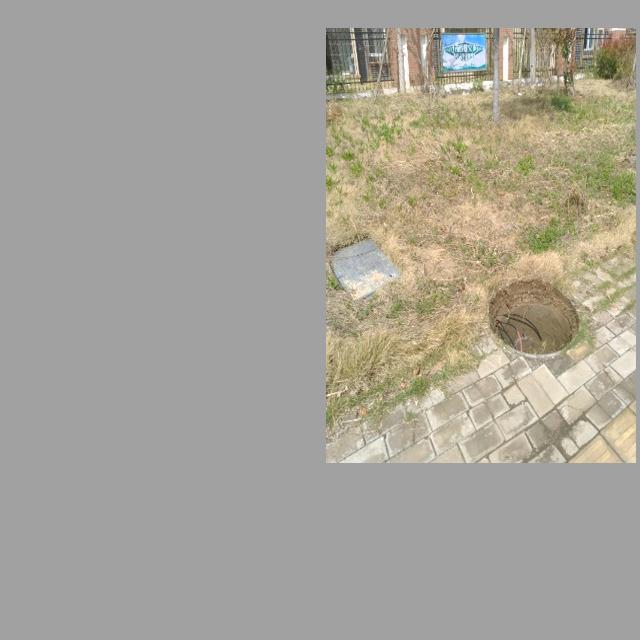lose: (488, 267, 584, 362)
